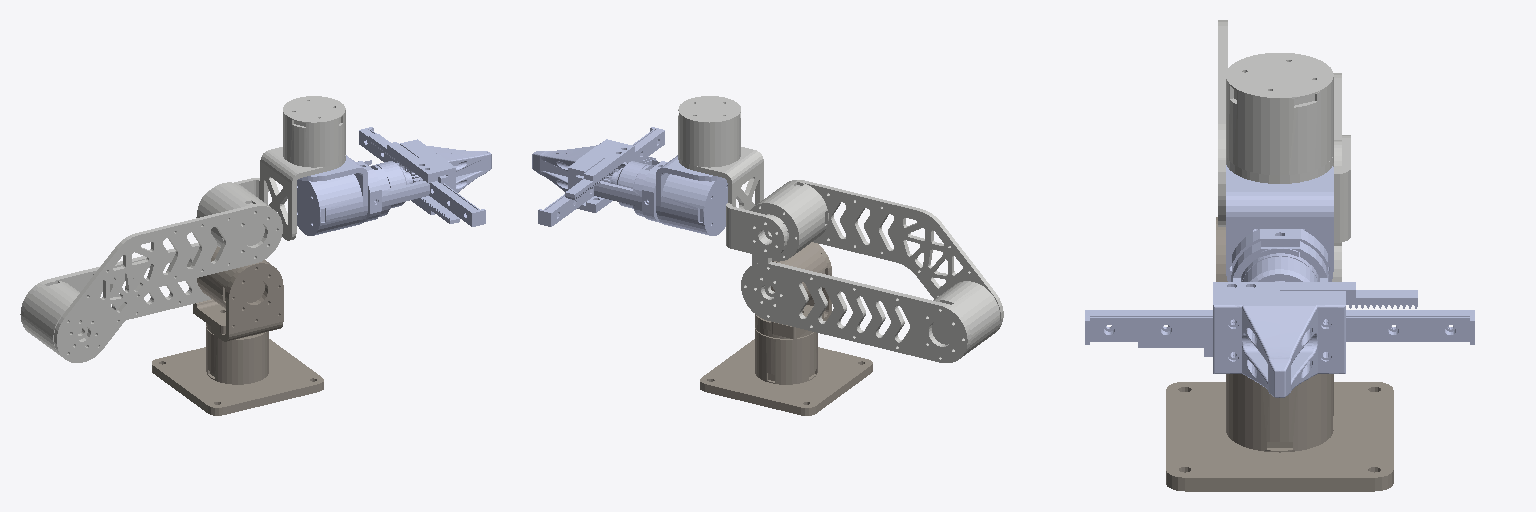
URDF robot description (panther_description):
<?xml version="1.0" encoding="utf-8" ?>
<!-- This URDF was automatically created by SolidWorks to URDF Exporter! Originally created by [author] ([email redacted]) 
     Commit Version: 1.6.0-4-g7f85cfe  Build Version: 1.6.7995.38578
     For more information, please see http://wiki.ros.org/sw_urdf_exporter -->
<robot name="panther_description">
    <link name="base_link">
        <inertial>
            <origin xyz="-5.22421768267327E-17 -4.9646319201852E-06 0.00682594884114425" rpy="0 0 0" />
            <mass value="1.00980967249859" />
            <inertia ixx="0.00110668630953746" ixy="1.28862263174568E-19" ixz="-3.2127004428854E-21" iyy="0.0011065522944672" iyz="-8.45296879697751E-08" izz="0.00216887903845609" />
        </inertial>
        <visual>
            <origin xyz="0 0 0" rpy="0 0 0" />
            <geometry>
                <mesh filename="package://panther_description/meshes/base_link.STL" />
            </geometry>
            <material name="">
                <color rgba="0.647058823529412 0.619607843137255 0.588235294117647 1" />
            </material>
        </visual>
        <collision>
            <origin xyz="0 0 0" rpy="0 0 0" />
            <geometry>
                <mesh filename="package://panther_description/meshes/base_link.STL" />
            </geometry>
        </collision>
    </link>
    <link name="link1">
        <inertial>
            <origin xyz="-0.000140138460727448 -0.0115178455380478 -0.0189175974816606" rpy="0 0 0" />
            <mass value="0.64" />
            <inertia ixx="0.000278935703826545" ixy="1.25625050632852E-06" ixz="6.95888805367088E-08" iyy="0.000266771663216221" iyz="6.1414956964764E-05" izz="0.000227700191108933" />
        </inertial>
        <visual>
            <origin xyz="0 0 0" rpy="0 0 0" />
            <geometry>
                <mesh filename="package://panther_description/meshes/link1.STL" />
            </geometry>
            <material name="">
                <color rgba="0.647058823529412 0.619607843137255 0.588235294117647 1" />
            </material>
        </visual>
        <collision>
            <origin xyz="0 0 0" rpy="0 0 0" />
            <geometry>
                <mesh filename="package://panther_description/meshes/link1.STL" />
            </geometry>
        </collision>
    </link>
    <joint name="joint1" type="revolute">
        <origin xyz="0 0 0.1005" rpy="0 0 0" />
        <parent link="base_link" />
        <child link="link1" />
        <axis xyz="0 0 1" />
        <limit lower="-3.14" upper="3.14" effort="3" velocity="1" />
    </joint>
    <link name="link2">
        <inertial>
            <origin xyz="0.106425438295557 -3.80251385934116E-12 0.0236077558477278" rpy="0 0 0" />
            <mass value="0.83" />
            <inertia ixx="0.000203520214080601" ixy="2.79264055058398E-19" ixz="-1.05315902249166E-07" iyy="0.00224499671569178" iyz="1.32814298453241E-20" izz="0.00238696841123224" />
        </inertial>
        <visual>
            <origin xyz="0 0 0" rpy="0 0 0" />
            <geometry>
                <mesh filename="package://panther_description/meshes/link2.STL" />
            </geometry>
            <material name="">
                <color rgba="0.827450980392157 0.827450980392157 0.819607843137255 1" />
            </material>
        </visual>
        <collision>
            <origin xyz="0 0 0" rpy="0 0 0" />
            <geometry>
                <mesh filename="package://panther_description/meshes/link2.STL" />
            </geometry>
        </collision>
    </link>
    <joint name="joint2" type="revolute">
        <origin xyz="0 0 0" rpy="1.5707963267949 0 3.14159265358979" />
        <parent link="link1" />
        <child link="link2" />
        <axis xyz="0 0 1" />
        <limit lower="-3.14" upper="3.14" effort="3" velocity="1" />
    </joint>
    <link name="link3">
        <inertial>
            <origin xyz="0.112947841031452 0.0109257169593898 0.0234930652223882" rpy="0 0 0" />
            <mass value="0.772" />
            <inertia ixx="0.000268057561475191" ixy="2.74601930728987E-05" ixz="3.17939972597626E-08" iyy="0.00216726923713696" iyz="1.00402096614883E-07" izz="0.0023748322005515" />
        </inertial>
        <visual>
            <origin xyz="0 0 0" rpy="0 0 0" />
            <geometry>
                <mesh filename="package://panther_description/meshes/link3.STL" />
            </geometry>
            <material name="">
                <color rgba="0.827450980392157 0.827450980392157 0.819607843137255 1" />
            </material>
        </visual>
        <collision>
            <origin xyz="0 0 0" rpy="0 0 0" />
            <geometry>
                <mesh filename="package://panther_description/meshes/link3.STL" />
            </geometry>
        </collision>
    </link>
    <joint name="joint3" type="revolute">
        <origin xyz="0.179999999999998 0 0" rpy="3.14159265358979 0 2.83491633418811" />
        <parent link="link2" />
        <child link="link3" />
        <axis xyz="0 0 1" />
        <limit lower="-3.14" upper="3.14" effort="3" velocity="1" />
    </joint>
    <link name="link4">
        <inertial>
            <origin xyz="0.0513406245602283 -0.0329058384127011 0.00868209734629183" rpy="0 0 0" />
            <mass value="0.427" />
            <inertia ixx="0.000329818055330246" ixy="0.000104110882896881" ixz="8.09376058698959E-05" iyy="0.0003603735383472" iyz="-6.00949681992951E-05" izz="0.000376825850928194" />
        </inertial>
        <visual>
            <origin xyz="0 0 0" rpy="0 0 0" />
            <geometry>
                <mesh filename="package://panther_description/meshes/link4.STL" />
            </geometry>
            <material name="">
                <color rgba="0.827450980392157 0.827450980392157 0.819607843137255 1" />
            </material>
        </visual>
        <collision>
            <origin xyz="0 0 0" rpy="0 0 0" />
            <geometry>
                <mesh filename="package://panther_description/meshes/link4.STL" />
            </geometry>
        </collision>
    </link>
    <joint name="joint4" type="revolute">
        <origin xyz="0.188809427730714 0 0" rpy="3.14159265358979 0 -0.306676319401685" />
        <parent link="link3" />
        <child link="link4" />
        <axis xyz="0 0 1" />
        <limit lower="-3.14" upper="3.14" effort="3" velocity="1" />
    </joint>
    <link name="link5">
        <inertial>
            <origin xyz="2.62314297356869E-16 -0.0160776069634142 -0.0180581657290753" rpy="0 0 0" />
            <mass value="0.38" />
            <inertia ixx="0.000192352594219116" ixy="-9.24994896376521E-20" ixz="2.36149112675264E-21" iyy="0.000171651346378433" iyz="4.05707603604006E-05" izz="0.000185377128431133" />
        </inertial>
        <visual>
            <origin xyz="0 0 0" rpy="0 0 0" />
            <geometry>
                <mesh filename="package://panther_description/meshes/link5.STL" />
            </geometry>
            <material name="">
                <color rgba="0.792156862745098 0.819607843137255 0.933333333333333 1" />
            </material>
        </visual>
        <collision>
            <origin xyz="0 0 0" rpy="0 0 0" />
            <geometry>
                <mesh filename="package://panther_description/meshes/link5.STL" />
            </geometry>
        </collision>
    </link>
    <joint name="joint5" type="revolute">
        <origin xyz="0.08 0 0" rpy="-1.5708 1.5708 0" />
        <parent link="link4" />
        <child link="link5" />
        <axis xyz="0 0 1" />
        <limit lower="-3.14" upper="3.14" effort="3" velocity="1" />
    </joint>
    <link name="link6">
        <inertial>
            <origin xyz="-4.35824622879912E-15 -2.3037127760972E-15 -0.0025000000000041" rpy="0 0 0" />
            <mass value="0.43" />
            <inertia ixx="3.56917077685088E-07" ixy="1.21411373112006E-21" ixz="-8.99654936865443E-22" iyy="3.56917077685087E-07" iyz="2.51615306815575E-22" izz="6.95720910226822E-07" />
        </inertial>
        <visual>
            <origin xyz="0 0 0" rpy="0 0 0" />
            <geometry>
                <mesh filename="package://panther_description/meshes/link6.STL" />
            </geometry>
            <material name="">
                <color rgba="0.827450980392157 0.827450980392157 0.819607843137255 1" />
            </material>
        </visual>
        <collision>
            <origin xyz="0 0 0" rpy="0 0 0" />
            <geometry>
                <mesh filename="package://panther_description/meshes/link6.STL" />
            </geometry>
        </collision>
    </link>
    <joint name="joint6" type="revolute">
        <origin xyz="0 -0.036 0" rpy="1.5708 0 0" />
        <parent link="link5" />
        <child link="link6" />
        <axis xyz="0 0 1" />
        <limit lower="-3.14" upper="3.14" effort="3" velocity="1" />
    </joint>
    <link name="gripper_centor_link">
        <inertial>
            <origin xyz="-0.107107907434468 -0.000284330630565321 -3.59780083918573E-09" rpy="0 0 0" />
            <mass value="0.105344961426715" />
            <inertia ixx="0.000121501833753841" ixy="-5.32591777920033E-07" ixz="-1.30991455486E-12" iyy="0.000131132833025858" iyz="-1.22715670298721E-16" izz="3.14014892995729E-05" />
        </inertial>
        <visual>
            <origin xyz="0 0 0" rpy="0 3.14 3.14" />
            <geometry>
                <mesh filename="package://panther_description/meshes/gripper_centor_link.STL" />
            </geometry>
            <material name="">
                <color rgba="0.792156862745098 0.819607843137255 0.933333333333333 1" />
            </material>
        </visual>
        <collision>
            <origin xyz="0 0 0" rpy="0 0 0" />
            <geometry>
                <mesh filename="package://panther_description/meshes/gripper_centor_link.STL" />
            </geometry>
        </collision>
    </link>
    <joint name="gripper_centor_joint" type="fixed">
        <origin xyz="0 0 0.148" rpy="0 -1.5708 0" />
        <parent link="link6" />
        <child link="gripper_centor_link" />
        <axis xyz="0 0 0" />
        <limit lower="-3.14" upper="3.14" effort="3" velocity="1" />
    </joint>
    <link name="gripper_1_link">
        <inertial>
            <origin xyz="-0.0574118738630709 0.00266477929541095 0.00735600840817693" rpy="0 0 0" />
            <mass value="0.0426889603072748" />
            <inertia ixx="1.52455723699562E-05" ixy="6.72945744056607E-07" ixz="6.51636208168844E-07" iyy="1.58145426336727E-05" iyz="8.66924269315344E-07" izz="1.07532838710952E-05" />
        </inertial>
        <visual>
            <origin xyz="0 0 0" rpy="0 0 0" />
            <geometry>
                <mesh filename="package://panther_description/meshes/gripper_1_link.STL" />
            </geometry>
            <material name="">
                <color rgba="0.792156862745098 0.819607843137255 0.933333333333333 1" />
            </material>
        </visual>
        <collision>
            <origin xyz="0 0 0" rpy="0 0 0" />
            <geometry>
                <mesh filename="package://panther_description/meshes/gripper_1_link.STL" />
            </geometry>
        </collision>
    </link>
    <joint name="gripper_1_joint" type="prismatic">
        <origin xyz="0 0 0.148" rpy="0 -1.5708 0" />
        <parent link="link6" />
        <child link="gripper_1_link" />
        <axis xyz="0 0 1" />
        <limit lower="0" upper="0.06" effort="0.18" velocity="1" />
    </joint>
    <link name="gripper_2_link">
        <inertial>
            <origin xyz="-0.0573873207529981 -0.00294326456557495 -0.00756965143896882" rpy="0 0 0" />
            <mass value="0.0427537416759649" />
            <inertia ixx="1.51969338433752E-05" ixy="-6.97375756939916E-07" ixz="-6.45626526757555E-07" iyy="1.56092033290293E-05" iyz="8.99148024231464E-07" izz="1.09238615980533E-05" />
        </inertial>
        <visual>
            <origin xyz="0 0 0" rpy="0 0 0" />
            <geometry>
                <mesh filename="package://panther_description/meshes/gripper_2_link.STL" />
            </geometry>
            <material name="">
                <color rgba="0.792156862745098 0.819607843137255 0.933333333333333 1" />
            </material>
        </visual>
        <collision>
            <origin xyz="0 0 0" rpy="0 0 0" />
            <geometry>
                <mesh filename="package://panther_description/meshes/gripper_2_link.STL" />
            </geometry>
        </collision>
    </link>
    <joint name="gripper_2_joint" type="prismatic">
        <origin xyz="0 0 0.148" rpy="0 -1.5708 0" />
        <parent link="link6" />
        <child link="gripper_2_link" />
        <axis xyz="0 0 1" />
        <limit lower="0" upper="0.06" effort="0.18" velocity="1" />
        <mimic joint="gripper_1_joint" multiplier="-1" offset="0" />
    </joint>
    <transmission name="trans_joint1">
        <type>transmission_interface/SimpleTransmission</type>
        <joint name="joint1">
            <hardwareInterface>hardware_interface/EffortJointInterface</hardwareInterface>
        </joint>
        <actuator name="joint1_motor">
            <hardwareInterface>hardware_interface/EffortJointInterface</hardwareInterface>
            <mechanicalReduction>1</mechanicalReduction>
        </actuator>
    </transmission>
    <transmission name="trans_joint2">
        <type>transmission_interface/SimpleTransmission</type>
        <joint name="joint2">
            <hardwareInterface>hardware_interface/EffortJointInterface</hardwareInterface>
        </joint>
        <actuator name="joint2_motor">
            <hardwareInterface>hardware_interface/EffortJointInterface</hardwareInterface>
            <mechanicalReduction>1</mechanicalReduction>
        </actuator>
    </transmission>
    <transmission name="trans_joint3">
        <type>transmission_interface/SimpleTransmission</type>
        <joint name="joint3">
            <hardwareInterface>hardware_interface/EffortJointInterface</hardwareInterface>
        </joint>
        <actuator name="joint3_motor">
            <hardwareInterface>hardware_interface/EffortJointInterface</hardwareInterface>
            <mechanicalReduction>1</mechanicalReduction>
        </actuator>
    </transmission>
    <transmission name="trans_joint4">
        <type>transmission_interface/SimpleTransmission</type>
        <joint name="joint4">
            <hardwareInterface>hardware_interface/EffortJointInterface</hardwareInterface>
        </joint>
        <actuator name="joint4_motor">
            <hardwareInterface>hardware_interface/EffortJointInterface</hardwareInterface>
            <mechanicalReduction>1</mechanicalReduction>
        </actuator>
    </transmission>
    <transmission name="trans_joint5">
        <type>transmission_interface/SimpleTransmission</type>
        <joint name="joint5">
            <hardwareInterface>hardware_interface/EffortJointInterface</hardwareInterface>
        </joint>
        <actuator name="joint5_motor">
            <hardwareInterface>hardware_interface/EffortJointInterface</hardwareInterface>
            <mechanicalReduction>1</mechanicalReduction>
        </actuator>
    </transmission>
    <transmission name="trans_joint6">
        <type>transmission_interface/SimpleTransmission</type>
        <joint name="joint6">
            <hardwareInterface>hardware_interface/EffortJointInterface</hardwareInterface>
        </joint>
        <actuator name="joint6_motor">
            <hardwareInterface>hardware_interface/EffortJointInterface</hardwareInterface>
            <mechanicalReduction>1</mechanicalReduction>
        </actuator>
    </transmission>
    <transmission name="trans_gripper_1_joint">
        <type>transmission_interface/SimpleTransmission</type>
        <joint name="gripper_1_joint">
            <hardwareInterface>hardware_interface/EffortJointInterface</hardwareInterface>
        </joint>
        <actuator name="gripper_1_joint_motor">
            <hardwareInterface>hardware_interface/EffortJointInterface</hardwareInterface>
            <mechanicalReduction>1</mechanicalReduction>
        </actuator>
    </transmission>
    <transmission name="trans_gripper_2_joint">
        <type>transmission_interface/SimpleTransmission</type>
        <joint name="gripper_2_joint">
            <hardwareInterface>hardware_interface/EffortJointInterface</hardwareInterface>
        </joint>
        <actuator name="gripper_2_joint_motor">
            <hardwareInterface>hardware_interface/EffortJointInterface</hardwareInterface>
            <mechanicalReduction>1</mechanicalReduction>
        </actuator>
    </transmission>
    <gazebo>
        <plugin name="gazebo_ros_control" filename="libgazebo_ros_control.so">
            <robotNamespace>/</robotNamespace>
        </plugin>
    </gazebo>
</robot>

--- Facts derived from the render (not from the file) ---
Views: 3 orthographic renders of the robot side by side, from view 1: azimuth 30°, elevation 25°; view 2: azimuth 150°, elevation 25°; view 3: azimuth 270°, elevation 25°.
Robot: panther_description — 10 links, 9 joints (6 revolute, 2 prismatic, 1 fixed); root link base_link; default pose: all joints at 0.
Visible links, largest first — view 1: link3, base_link, link4, link1, link2, link5, gripper_centor_link, gripper_2_link, gripper_1_link; view 2: link2, link3, base_link, link4, link5, gripper_centor_link, gripper_1_link, link1, gripper_2_link; view 3: base_link, link4, gripper_centor_link, gripper_2_link, link5, gripper_1_link, link3, link2, link1.
Boxes of the visible links, x1=… form: link3: x1=54, y1=182, x2=282, y2=362; base_link: x1=152, y1=326, x2=323, y2=415; link4: x1=198, y1=96, x2=345, y2=240; link1: x1=193, y1=246, x2=283, y2=341; link2: x1=20, y1=243, x2=210, y2=354; link5: x1=297, y1=155, x2=367, y2=235; gripper_centor_link: x1=356, y1=127, x2=485, y2=226; gripper_2_link: x1=369, y1=134, x2=491, y2=192; gripper_1_link: x1=400, y1=139, x2=487, y2=223; link2: x1=741, y1=261, x2=999, y2=362; link3: x1=750, y1=180, x2=1003, y2=333; base_link: x1=700, y1=328, x2=872, y2=415; link4: x1=678, y1=96, x2=788, y2=264; link5: x1=656, y1=155, x2=727, y2=235; gripper_centor_link: x1=538, y1=127, x2=667, y2=226; gripper_1_link: x1=532, y1=152, x2=656, y2=212; link1: x1=755, y1=242, x2=831, y2=338; gripper_2_link: x1=536, y1=139, x2=634, y2=199; base_link: x1=1166, y1=374, x2=1393, y2=491; link4: x1=1226, y1=53, x2=1350, y2=245; gripper_centor_link: x1=1085, y1=229, x2=1474, y2=344; gripper_2_link: x1=1213, y1=282, x2=1417, y2=397; link5: x1=1226, y1=165, x2=1333, y2=281; gripper_1_link: x1=1138, y1=291, x2=1345, y2=397; link3: x1=1218, y1=20, x2=1227, y2=226; link2: x1=1332, y1=73, x2=1341, y2=281; link1: x1=1216, y1=217, x2=1227, y2=281.
Bounding box of the posed robot: 0.4725 × 0.206 × 0.2515 m (x, y, z).
10 mesh visuals loaded from 10 distinct referenced files (10 binary STL).